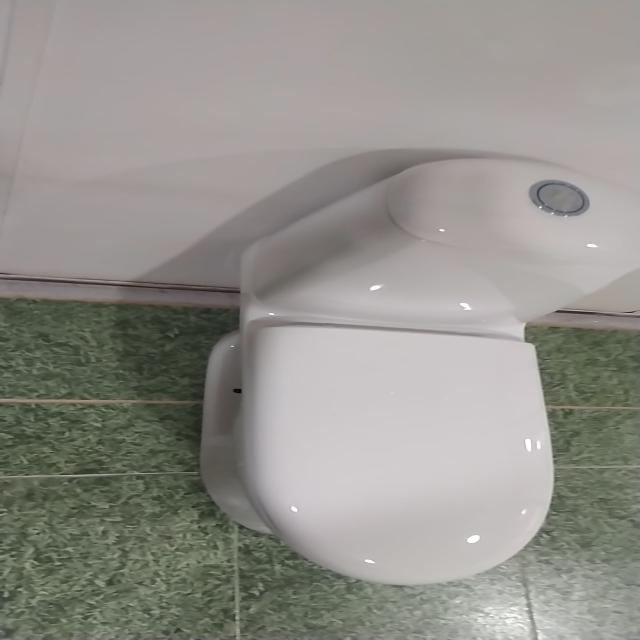toilet: (197, 155, 638, 586)
